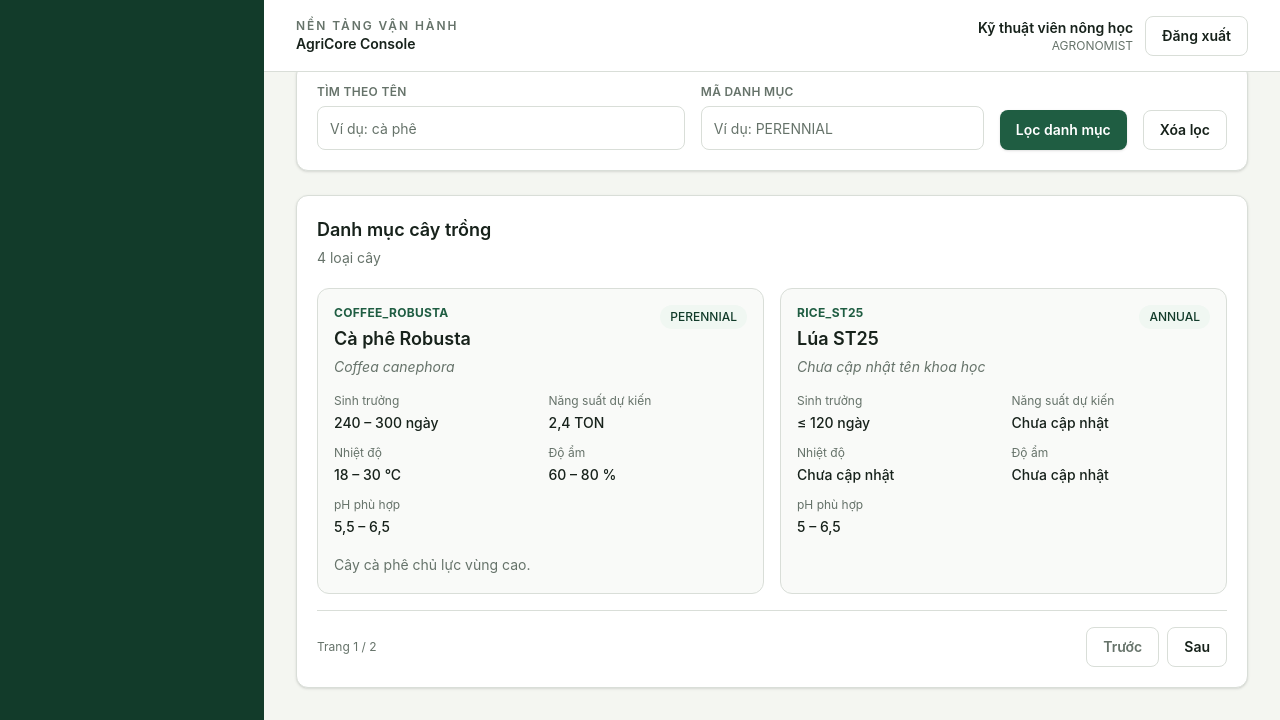
Crops page › offers a previous-page recovery action when a nonzero page is empty
The image size is (1280, 720).
(page scrolled)
Expected: the heading "Cà phê Robusta" is shown, [334, 325, 471, 353]
Click the button "Sau": (1197, 647) [1167, 627, 1227, 667]
(page scrolled)
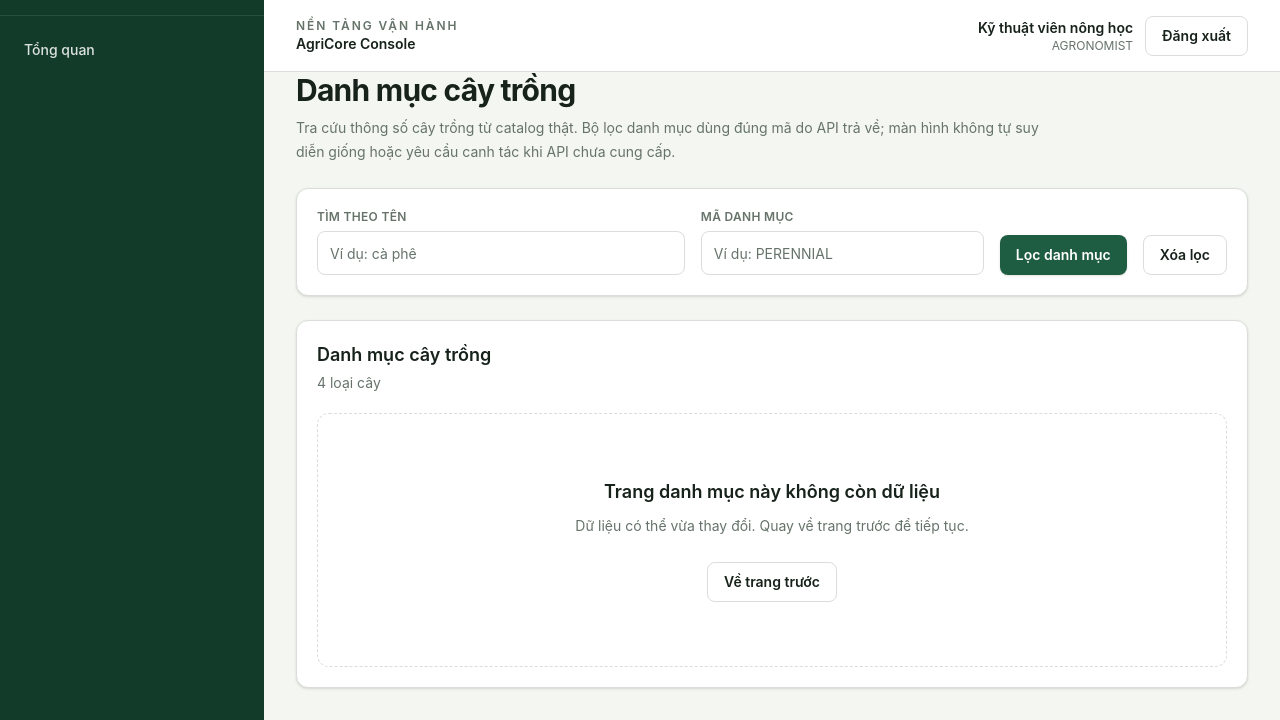
Expected: the heading "Trang danh mục này không còn dữ liệu" is shown, [575, 478, 969, 506]
Click the button "Về trang trước": (772, 582) [707, 562, 837, 602]
(page scrolled)
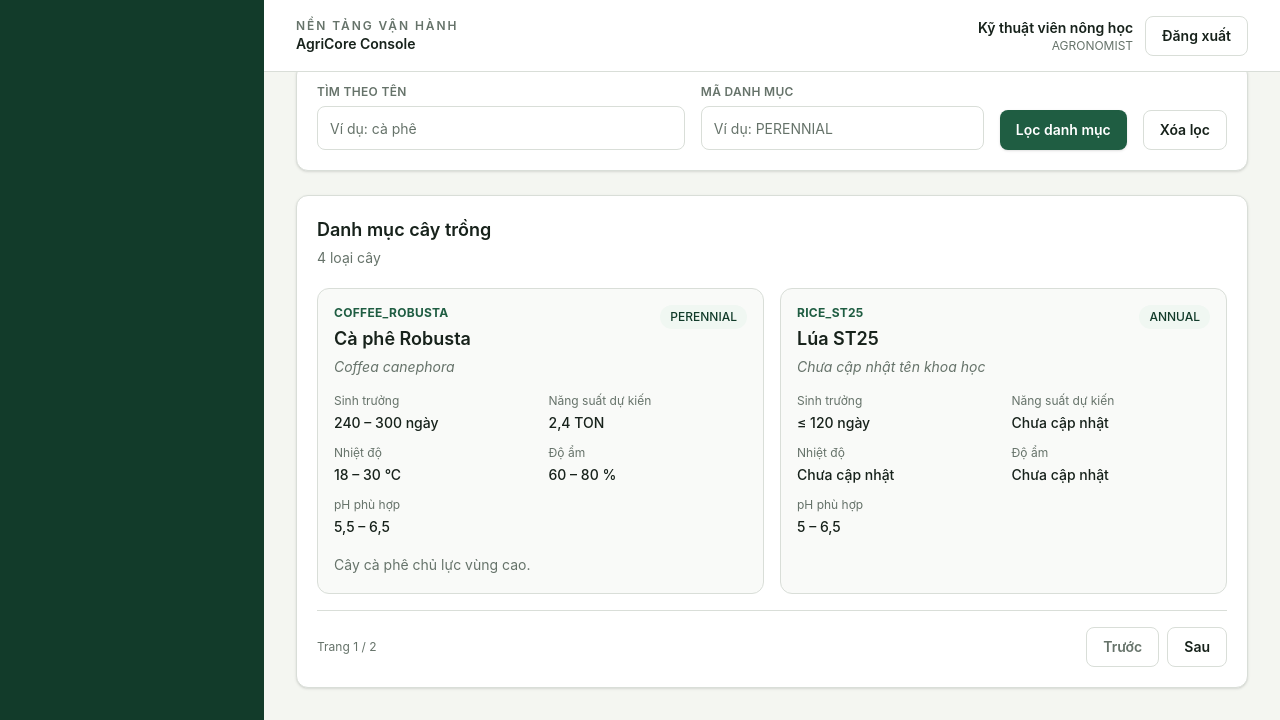
Expected: the heading "Cà phê Robusta" is shown, [334, 325, 471, 353]
